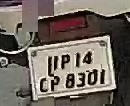0: (86, 69, 99, 87)
1: (97, 67, 108, 85), (74, 51, 81, 69)
3: (76, 72, 87, 91)
4: (82, 51, 93, 67)
8: (64, 72, 77, 91)
C: (38, 76, 49, 95)
P: (60, 53, 71, 70), (50, 76, 60, 92)
U: (47, 54, 58, 77)
